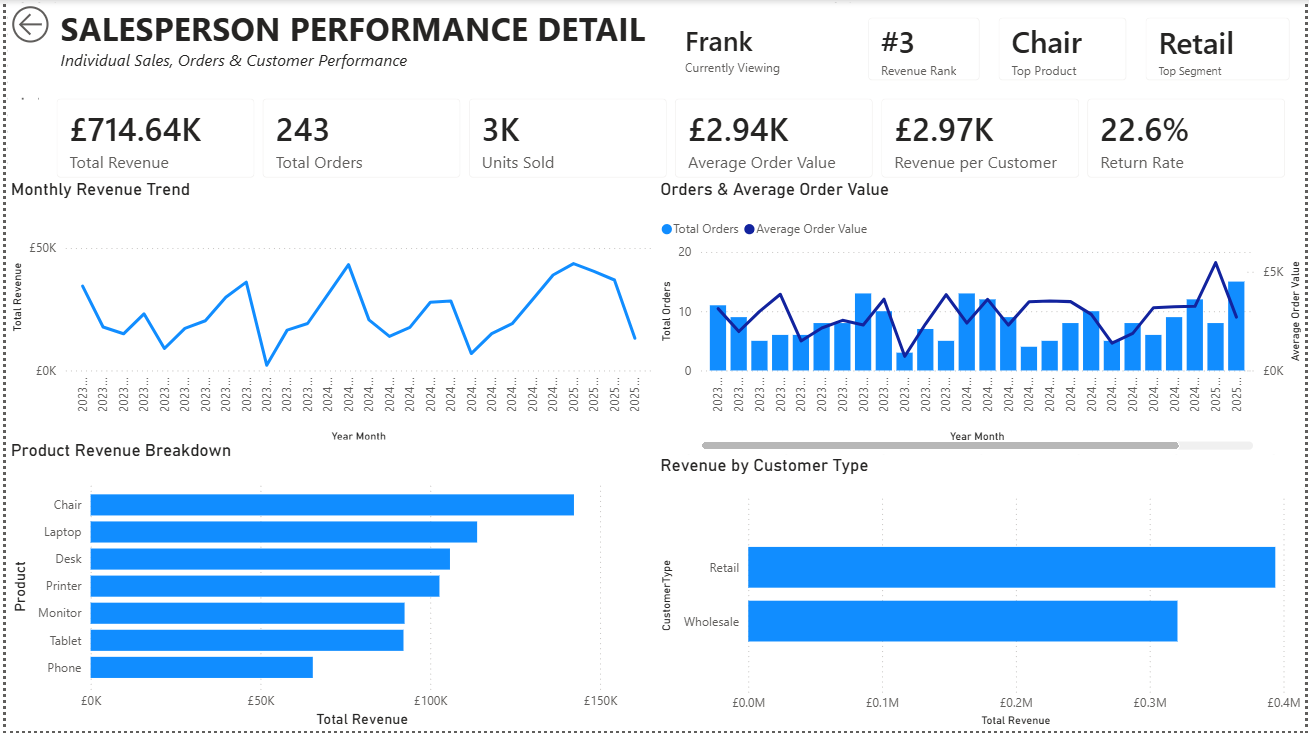

The page's visual inventory and layout, read from the dashboard file:
{"tool":"powerbi","page":{"name":"Salesperson Detail","canvas":[1280,720],"ordinal":2},"visuals":[{"type":"actionButton","box":[0,0,48,48],"z":0},{"type":"textbox","box":[48,0,592,96],"z":1000},{"type":"cardVisual","fields":{"Data":["_Measures.Total Revenue","_Measures.Total Orders","_Measures.Units Sold","_Measures.Average Order Value","_Measures.Revenue per Customer","_Measures.Return Rate"]},"box":[32,80,1248,112],"z":2000},{"type":"lineChart","title":"Monthly Revenue Trend","fields":{"Category":["CalendarTable.Year Month"],"Y":["_Measures.Total Revenue"]},"box":[0,176,640,272],"z":3000},{"type":"lineClusteredColumnComboChart","title":"Orders & Average Order Value","fields":{"Category":["CalendarTable.Year Month"],"Y":["_Measures.Total Orders"],"Y2":["_Measures.Average Order Value"]},"box":[640,176,640,272],"z":4000},{"type":"clusteredBarChart","title":"Product Revenue Breakdown","fields":{"Category":["Sales_Data.Product"],"Y":["_Measures.Total Revenue"]},"box":[0,432,640,288],"z":5000},{"type":"clusteredBarChart","title":"Revenue by Customer Type","fields":{"Category":["Sales_Data.CustomerType"],"Y":["_Measures.Total Revenue"]},"box":[640,448,640,272],"z":6000},{"type":"cardVisual","fields":{"Data":["_Measures.Selected Salesperson"]},"box":[640,0,176,96],"z":7000},{"type":"cardVisual","fields":{"Data":["_Measures.Revenue Rank Display"]},"box":[832,0,144,96],"z":8000},{"type":"cardVisual","fields":{"Data":["_Measures.Top Product"]},"box":[960,0,160,96],"z":9000},{"type":"cardVisual","fields":{"Data":["_Measures.Top Customer Segment"]},"box":[1104,0,176,96],"z":10000}]}

Visuals, with their boxes in screenshot pixels (x1, y1, x2, y2), scaled from the page's 1280x720 canvas onto the 1309x733 screenshot:
actionButton: (0, 0, 49, 49)
textbox: (49, 0, 654, 98)
cardVisual - _Measures.Total Revenue x _Measures.Total Orders: (33, 81, 1308, 195)
"Monthly Revenue Trend" lineChart: (0, 179, 654, 456)
"Orders & Average Order Value" lineClusteredColumnComboChart: (654, 179, 1308, 456)
"Product Revenue Breakdown" clusteredBarChart: (0, 440, 654, 732)
"Revenue by Customer Type" clusteredBarChart: (654, 456, 1308, 732)
cardVisual - _Measures.Selected Salesperson: (654, 0, 834, 98)
cardVisual - _Measures.Revenue Rank Display: (851, 0, 998, 98)
cardVisual - _Measures.Top Product: (982, 0, 1145, 98)
cardVisual - _Measures.Top Customer Segment: (1129, 0, 1308, 98)
